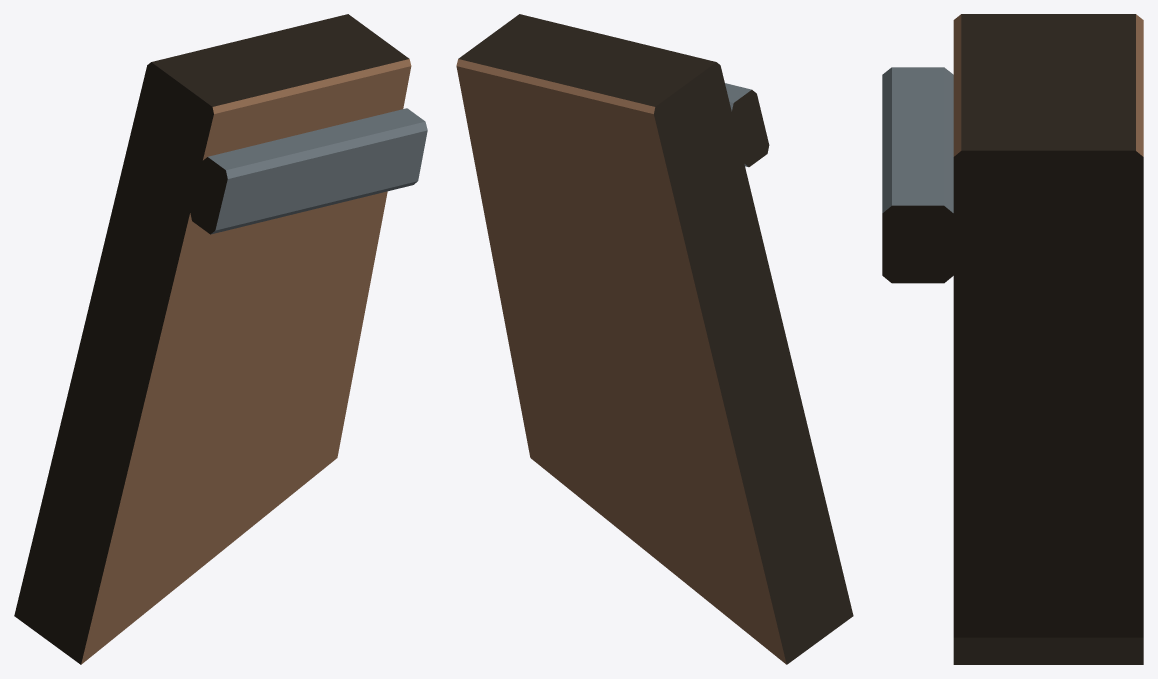
The model's file is SM_DoorShard_02_35.fbx.
3 renders of one model, left to right at view 1: azimuth 30°, elevation 25°; view 2: azimuth 150°, elevation 25°; view 3: azimuth 270°, elevation 25°, orthographic. The views are drawn at different scales.
Parts seen in each view (by area): view 1: SM_DoorShard_02_35; view 2: SM_DoorShard_02_35; view 3: SM_DoorShard_02_35.
Boxes of the visible parts, x1,y1,x2,y2 form: SM_DoorShard_02_35: (14, 14, 427, 664); SM_DoorShard_02_35: (456, 14, 853, 664); SM_DoorShard_02_35: (882, 14, 1143, 664).
Size of the model in its own units: 45.83 by 22 by 69.16.
